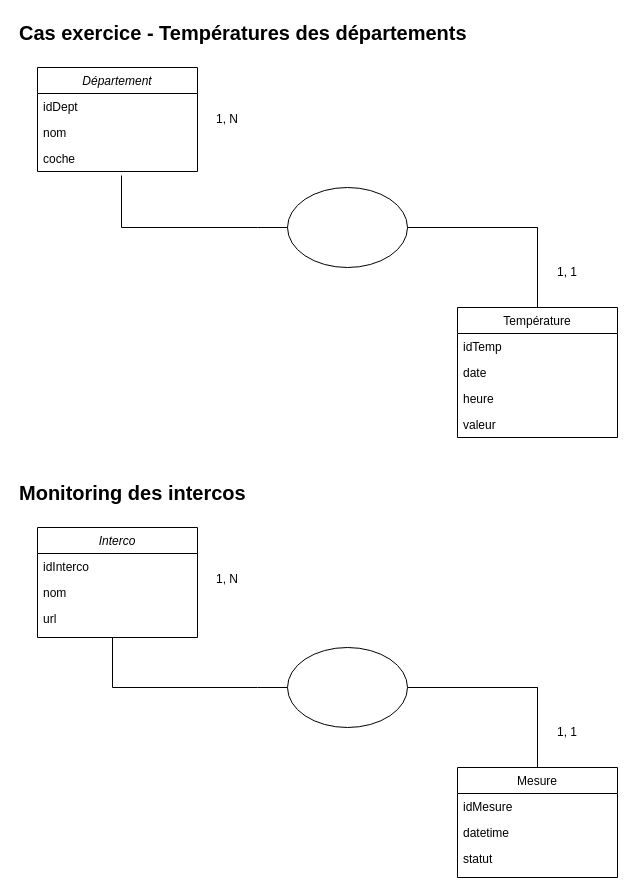
Some shapes in this 635 by 895 pixel diagram are drawn without their labels. Each missing label, with the centre of its shape:
"Recense" goes at point (347, 227).
"Relève" goes at point (347, 687).
